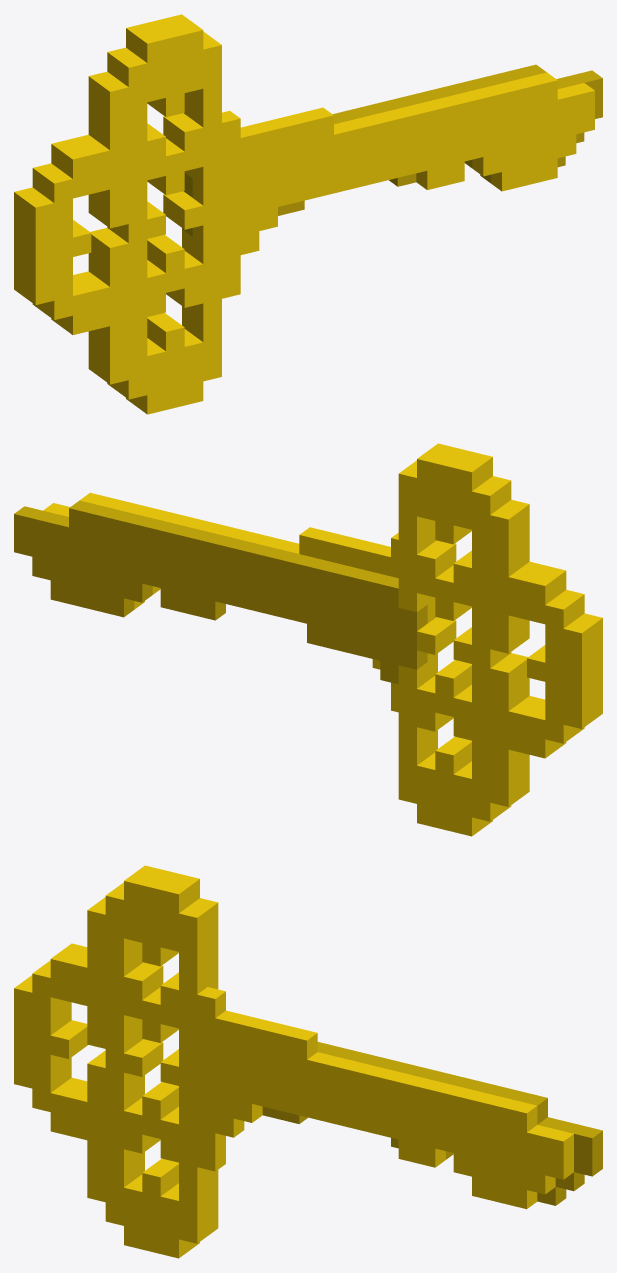
The model's file is key3.glb.
3 views of the same model, one above another, from view 1: azimuth 30°, elevation 25°; view 2: azimuth 150°, elevation 25°; view 3: azimuth 330°, elevation 25° (orthographic).
Visible parts, largest first — view 1: Untitled; view 2: Untitled; view 3: Untitled.
Boxes of the visible parts, bbox=[...] form: Untitled: bbox=[14, 14, 602, 414]; Untitled: bbox=[14, 443, 602, 836]; Untitled: bbox=[14, 865, 602, 1258].
Size of the model in its own units: 3.1 by 1.9 by 0.2.
1 material, 1 textured.
